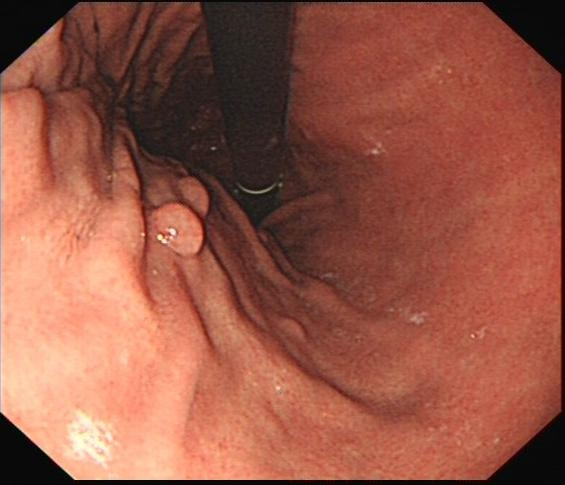Polyp: (142, 166, 206, 256)
